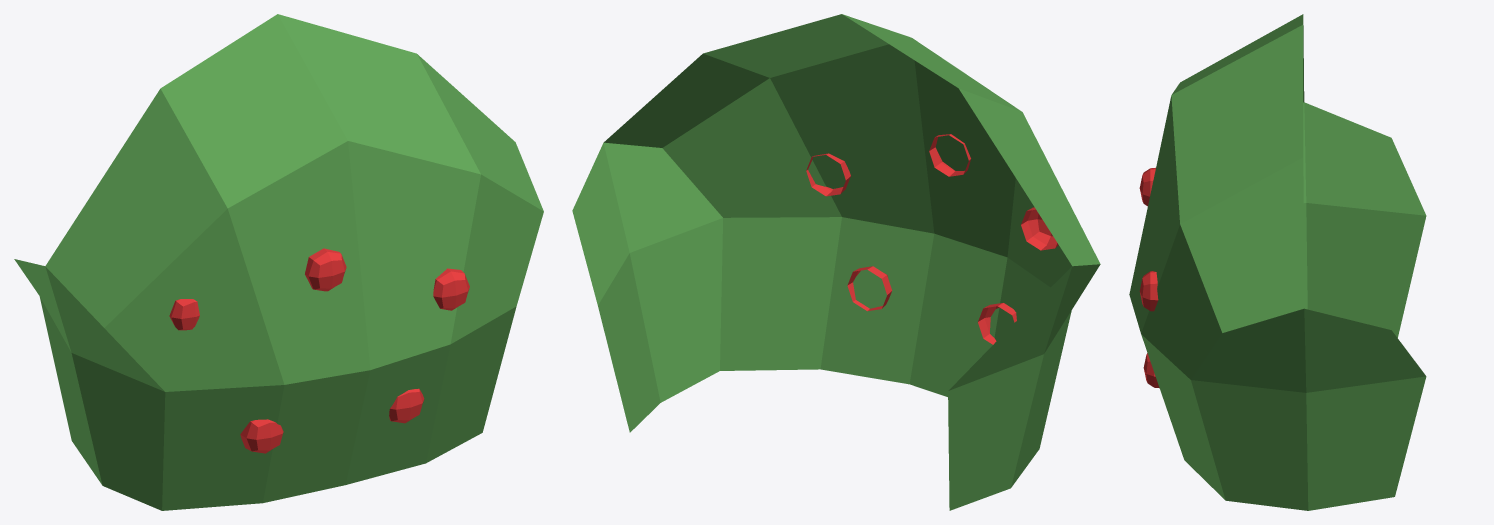
The model's file is куст.fbx.
3 renders of one model, left to right at view 1: azimuth 30°, elevation 25°; view 2: azimuth 150°, elevation 25°; view 3: azimuth 270°, elevation 25°, orthographic. The views are drawn at different scales.
Parts seen in each view (by area): view 1: Cube; view 2: Cube; view 3: Cube.
Boxes of the visible parts, x1,y1,x2,y2 form: Cube: (14,14,543,510); Cube: (572,14,1100,510); Cube: (1129,14,1426,510).
Size of the model in its own units: 26.47 by 23.22 by 18.22.
